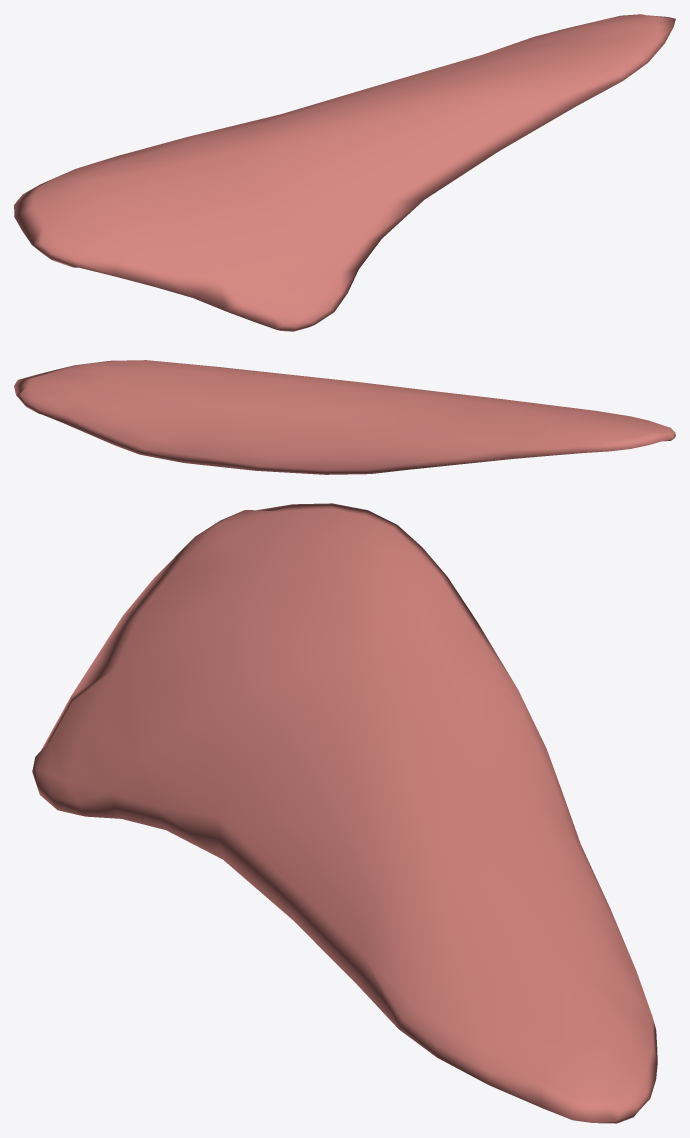
3 views of the same model, one above another, from view 1: azimuth 30°, elevation 25°; view 2: azimuth 150°, elevation 25°; view 3: azimuth 270°, elevation 25° (orthographic). The views are drawn at different scales.
Visible parts, largest first — view 1: ZA_9985580064ec592b; view 2: ZA_9985580064ec592b; view 3: ZA_9985580064ec592b.
Part boxes in pixels (box(x1,y1,x2,y2)): ZA_9985580064ec592b: box(14, 14, 675, 331); ZA_9985580064ec592b: box(14, 360, 675, 474); ZA_9985580064ec592b: box(32, 503, 657, 1123).
Size of the model in its own units: 0.0273 by 0.00353 by 0.0128.
